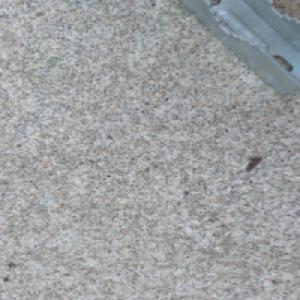ClampPart: (173, 0, 300, 97)
